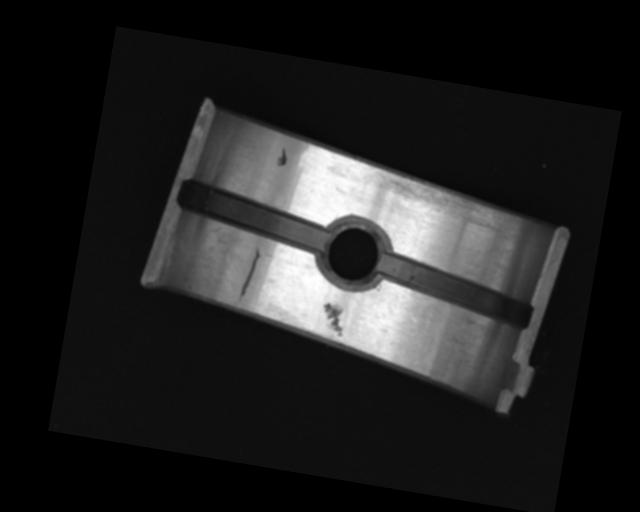bruise: (318, 300, 350, 337), (275, 146, 289, 168)
gap: (371, 250, 538, 329), (174, 179, 333, 252)
hole: (314, 210, 393, 291)
nick: (237, 244, 261, 305)
scratch: (365, 166, 505, 231)
